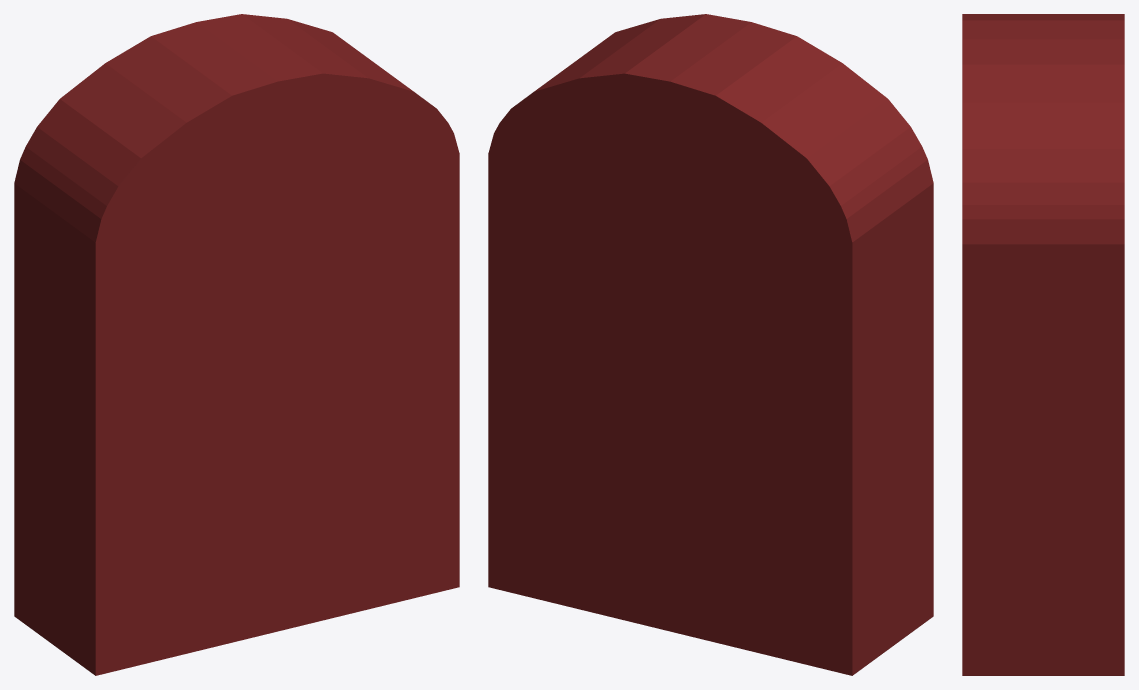
Rendered from DoorBase.obj.
3 renders of one model, left to right at view 1: azimuth 30°, elevation 25°; view 2: azimuth 150°, elevation 25°; view 3: azimuth 270°, elevation 25°, orthographic.
Visible parts, largest first — view 1: Cube; view 2: Cube; view 3: Cube.
Boxes of the visible parts, x1,y1,x2,y2 form: Cube: (14, 14, 459, 675); Cube: (488, 14, 933, 675); Cube: (962, 14, 1124, 675).
Bounding box in the file's own units: 2 × 2.89 × 0.7747.
Materials: 1 (1 with a texture image).
